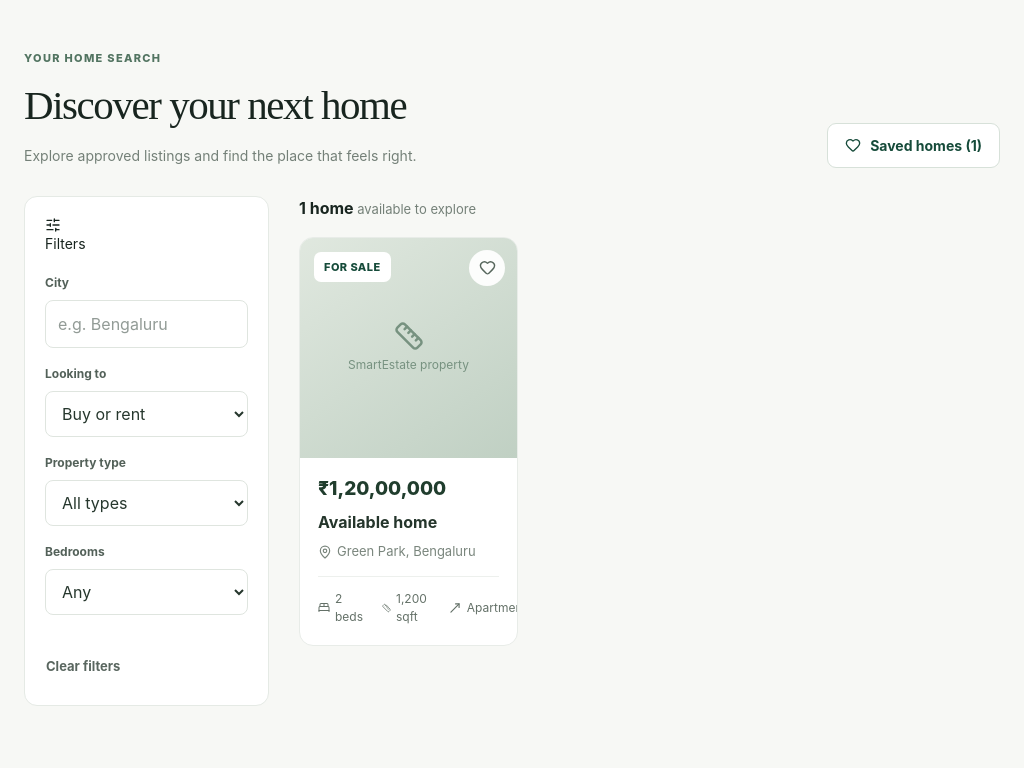
Scenario: BuyerDashboard favorites › loads saved properties from the backend independently of discovery filters
Click the button "Saved homes (1)".
click(914, 145)  # box [827,122,1000,168]
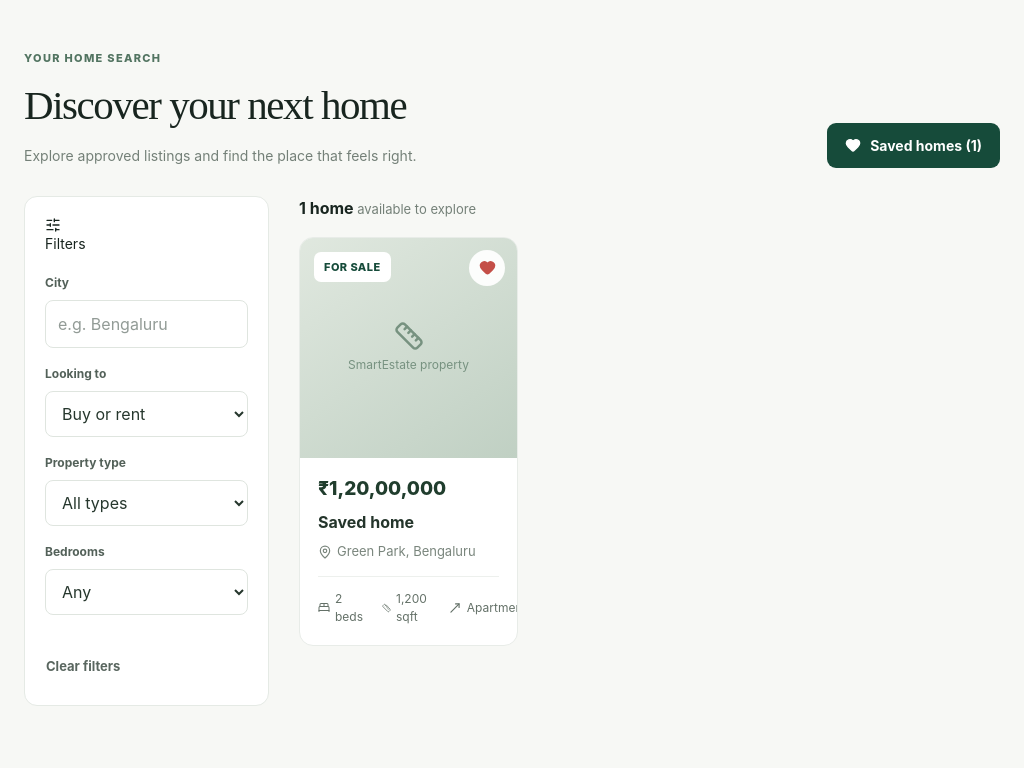
Now the link "Saved home" is shown, box [318,512,414,532]
Now the link "Available home" is gone
